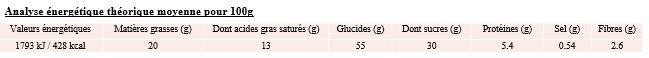column: (210, 25, 322, 51), (9, 24, 93, 51), (112, 24, 194, 50), (401, 24, 462, 49), (332, 25, 386, 51), (481, 24, 532, 51), (597, 24, 635, 51), (553, 23, 580, 51)
table: (3, 23, 641, 52)
